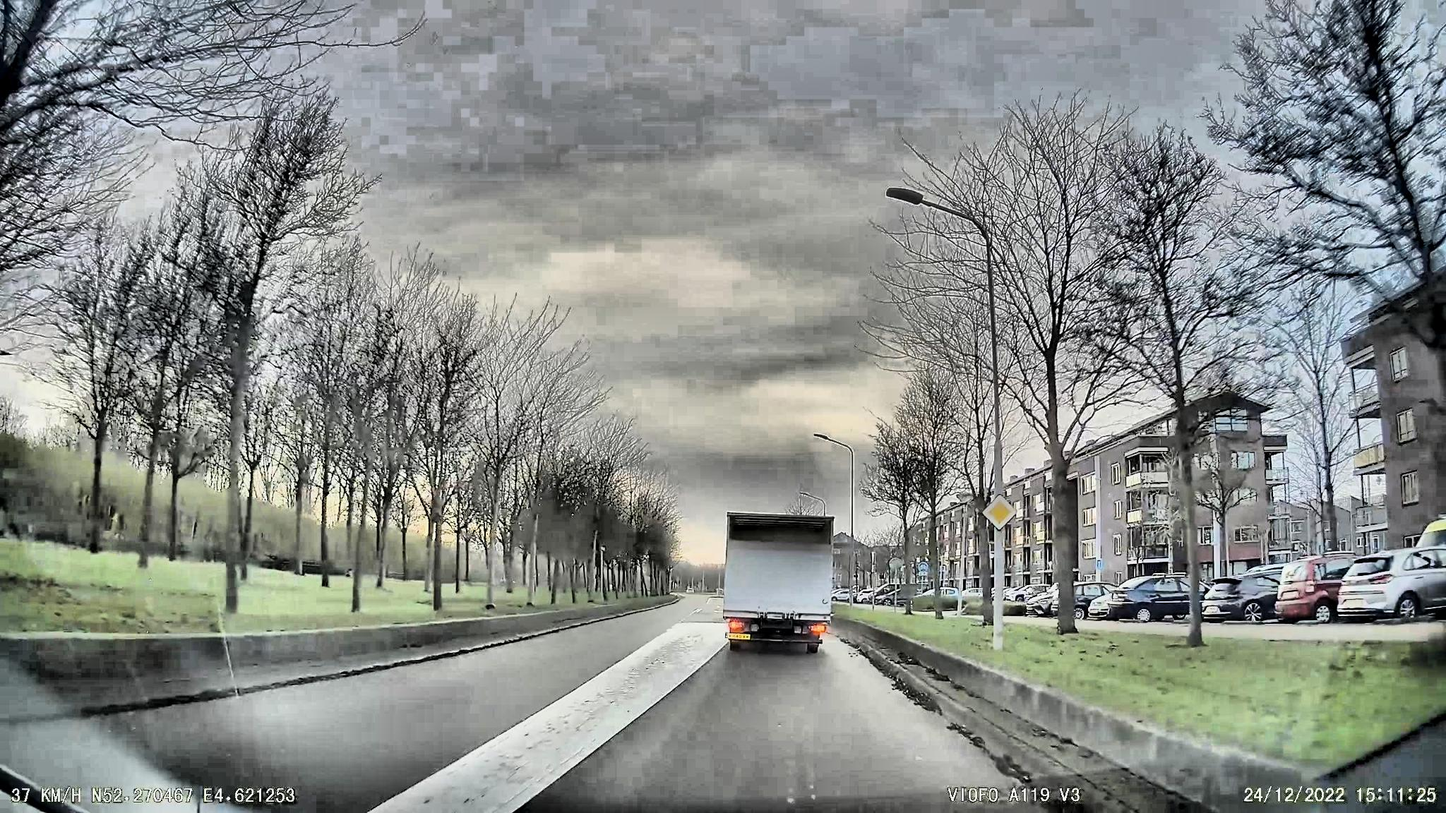Roads: (0, 596, 1000, 813)
